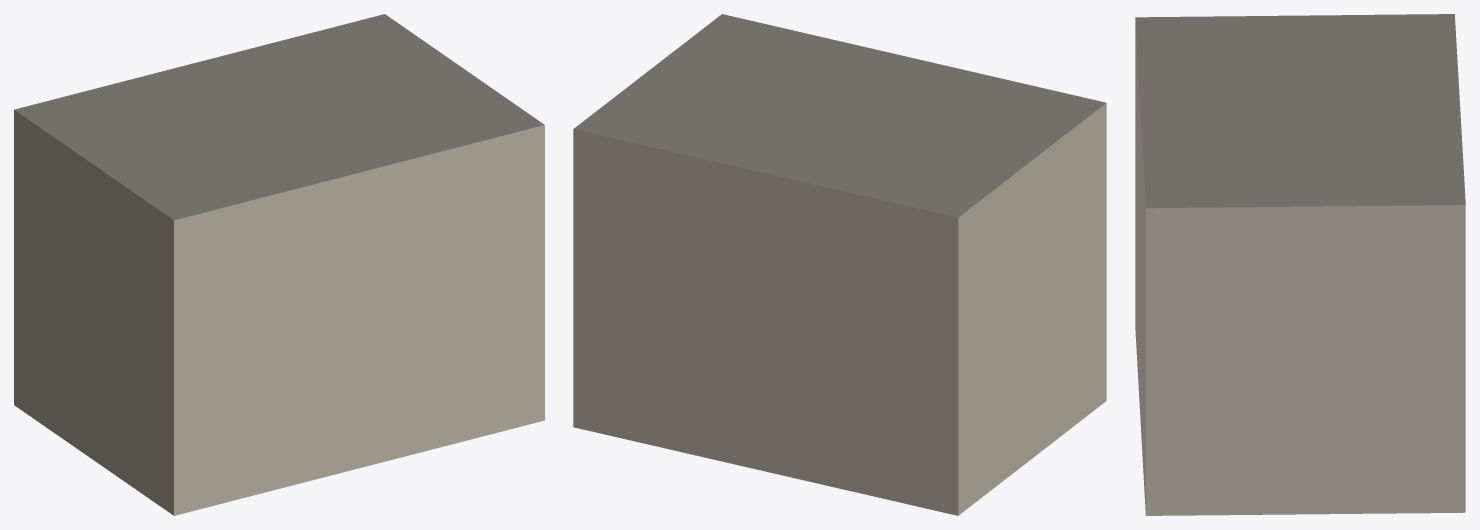
3 views of the same model, side by side, from view 1: azimuth 30°, elevation 25°; view 2: azimuth 150°, elevation 25°; view 3: azimuth 270°, elevation 25° (orthographic). The views are drawn at different scales.
Parts seen in each view (by area): view 1: HP-w1424106493; view 2: HP-w1424106493; view 3: HP-w1424106493.
Part boxes in pixels (x1,y1,x2,y2): HP-w1424106493: (14,14,544,515); HP-w1424106493: (573,14,1106,515); HP-w1424106493: (1135,14,1465,515).
Size of the model in its own units: 16.25 by 12 by 11.69.
